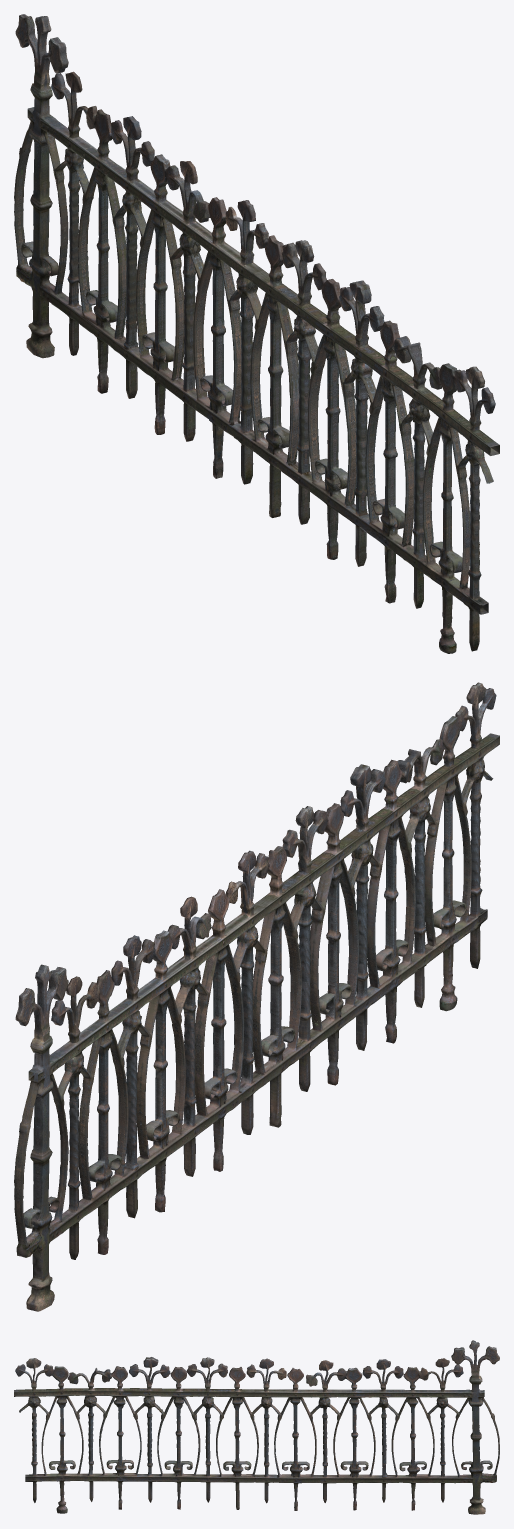
Rendered from sm_OldFence_01_01.fbx.
The picture shows the model from 3 angles, top to bottom: view 1: azimuth 30°, elevation 25°; view 2: azimuth 150°, elevation 25°; view 3: azimuth 270°, elevation 25°; orthographic projection. The views are drawn at different scales.
Visible parts, largest first — view 1: sm_OldFence_01_01_LOD0; view 2: sm_OldFence_01_01_LOD0; view 3: sm_OldFence_01_01_LOD0.
Boxes of the visible parts, x1,y1,x2,y2 form: sm_OldFence_01_01_LOD0: (14,14,499,653); sm_OldFence_01_01_LOD0: (14,682,499,1311); sm_OldFence_01_01_LOD0: (14,1340,499,1514).
Size of the model in its own units: 7.37 by 320 by 125.
